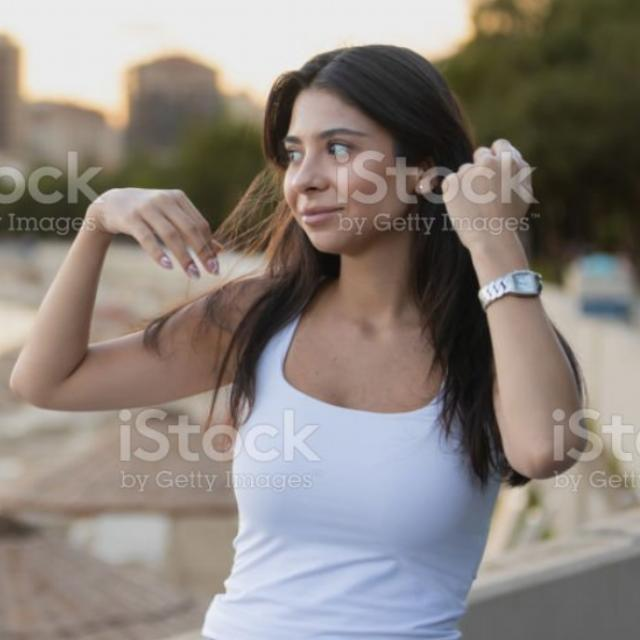Watch: (474, 267, 548, 306)
